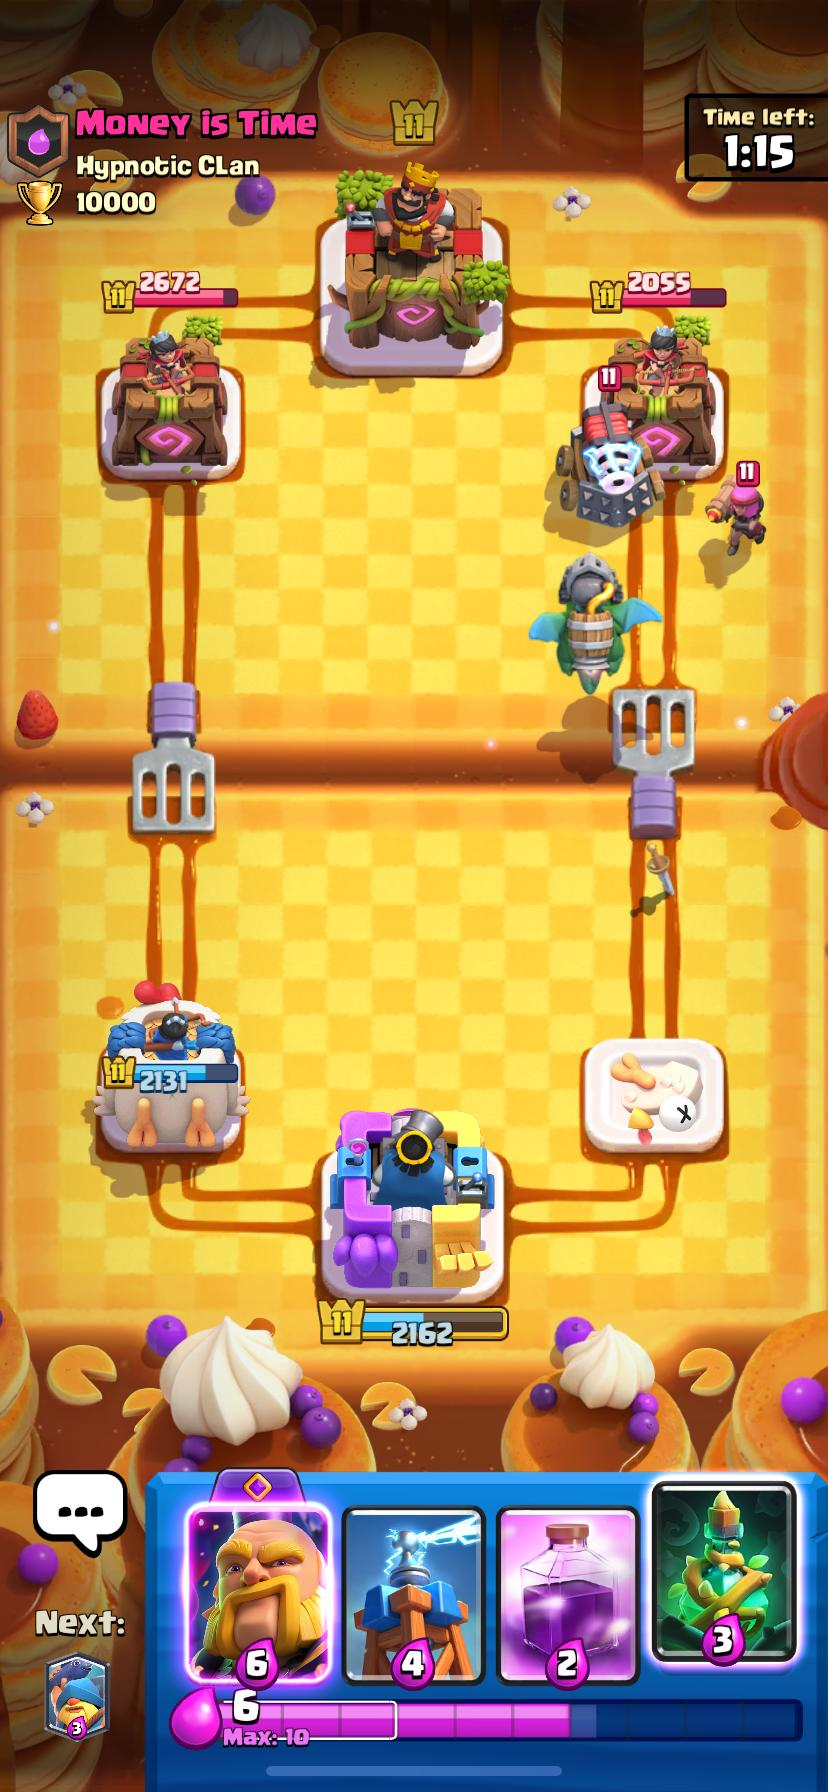EFirecrack: (706, 479, 765, 555)
EKingTower: (343, 165, 509, 352)
ESparky: (556, 399, 663, 526)
EnemyPrincessTower: (583, 325, 716, 479), (112, 330, 226, 475)
OInfernoDrag: (530, 553, 661, 694)
OwnKingTower: (321, 1109, 503, 1306)
OwnPrincessTower: (93, 983, 248, 1152)
TowerDown: (583, 1037, 725, 1157)
